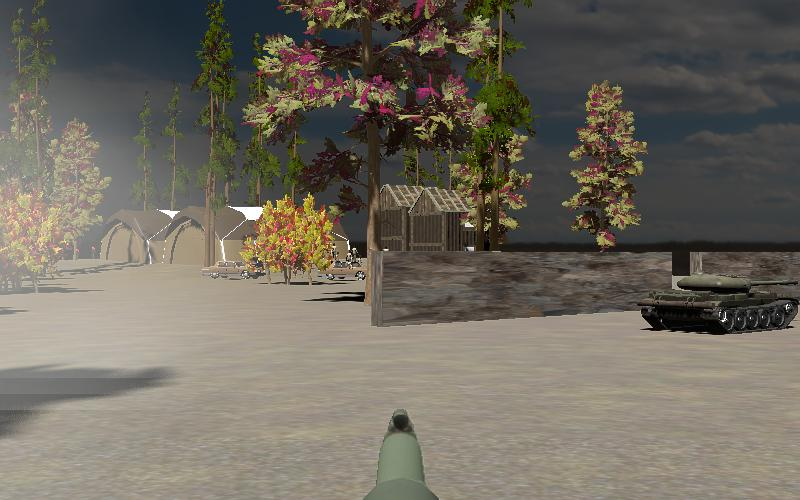House: (367, 183, 477, 254)
Tank: (638, 272, 800, 338)
car: (199, 258, 265, 284), (199, 259, 264, 282), (322, 259, 372, 282)
